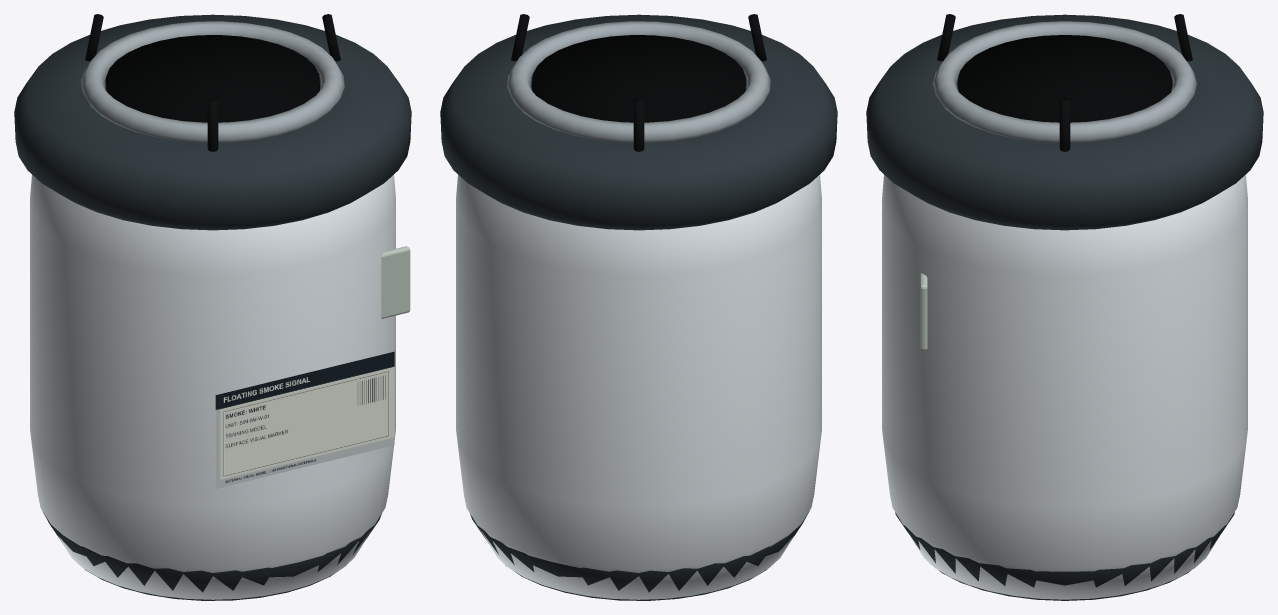
Rendered from floating_smoke_signal_white.glb.
The picture shows the model from 3 angles, left to right: view 1: azimuth 30°, elevation 25°; view 2: azimuth 150°, elevation 25°; view 3: azimuth 270°, elevation 25°; orthographic projection.
Parts seen in each view (by area): view 1: SMOKE_BODY, TOP_CAP_DARK, LABEL_SMOKE_ORANGE, GRAPHIC_EMISSION_OPENING, EMISSION_FINISH_RIM, LOWER_CONTRAST_BASE, TECHNICAL_PLATE, TOP_DECORATIVE_GUARD_3; view 2: SMOKE_BODY, TOP_CAP_DARK, GRAPHIC_EMISSION_OPENING, EMISSION_FINISH_RIM, LOWER_CONTRAST_BASE, TOP_DECORATIVE_GUARD_2; view 3: SMOKE_BODY, TOP_CAP_DARK, GRAPHIC_EMISSION_OPENING, EMISSION_FINISH_RIM, LOWER_CONTRAST_BASE, TOP_DECORATIVE_GUARD_1, TECHNICAL_PLATE.
Part boxes in pixels (<box>): SMOKE_BODY: <box>30,175,395,599</box>; TOP_CAP_DARK: <box>14,14,411,230</box>; LABEL_SMOKE_ORANGE: <box>215,351,394,488</box>; GRAPHIC_EMISSION_OPENING: <box>106,35,319,122</box>; EMISSION_FINISH_RIM: <box>81,21,344,142</box>; LOWER_CONTRAST_BASE: <box>42,511,381,600</box>; TECHNICAL_PLATE: <box>381,246,410,318</box>; TOP_DECORATIVE_GUARD_3: <box>207,99,218,151</box>; SMOKE_BODY: <box>456,175,821,599</box>; TOP_CAP_DARK: <box>440,14,837,230</box>; GRAPHIC_EMISSION_OPENING: <box>532,35,745,122</box>; EMISSION_FINISH_RIM: <box>507,21,770,142</box>; LOWER_CONTRAST_BASE: <box>470,511,809,600</box>; TOP_DECORATIVE_GUARD_2: <box>633,99,644,151</box>; SMOKE_BODY: <box>882,174,1247,599</box>; TOP_CAP_DARK: <box>866,14,1263,230</box>; GRAPHIC_EMISSION_OPENING: <box>957,35,1172,122</box>; EMISSION_FINISH_RIM: <box>933,21,1196,142</box>; LOWER_CONTRAST_BASE: <box>895,512,1234,600</box>; TOP_DECORATIVE_GUARD_1: <box>1059,99,1070,151</box>; TECHNICAL_PLATE: <box>920,273,927,350</box>.
Size of the model in its own units: 0.304 by 0.4278 by 0.304.
8 materials, 1 textured.
